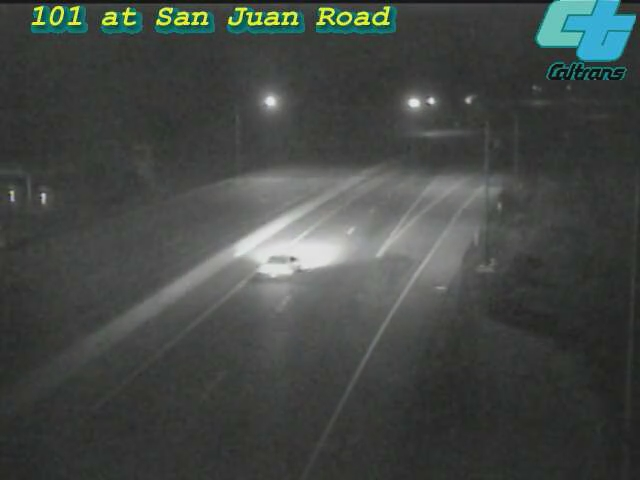vehicle: (242, 225, 322, 305)
